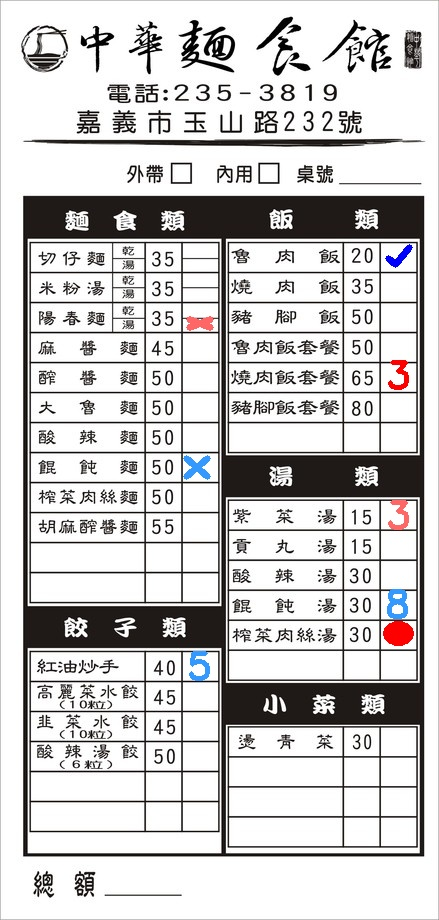marked_item: (381, 500, 417, 529), (380, 589, 416, 618), (182, 651, 218, 680), (381, 242, 417, 271), (179, 453, 215, 482), (381, 360, 417, 389), (380, 619, 416, 648), (183, 317, 217, 330)
